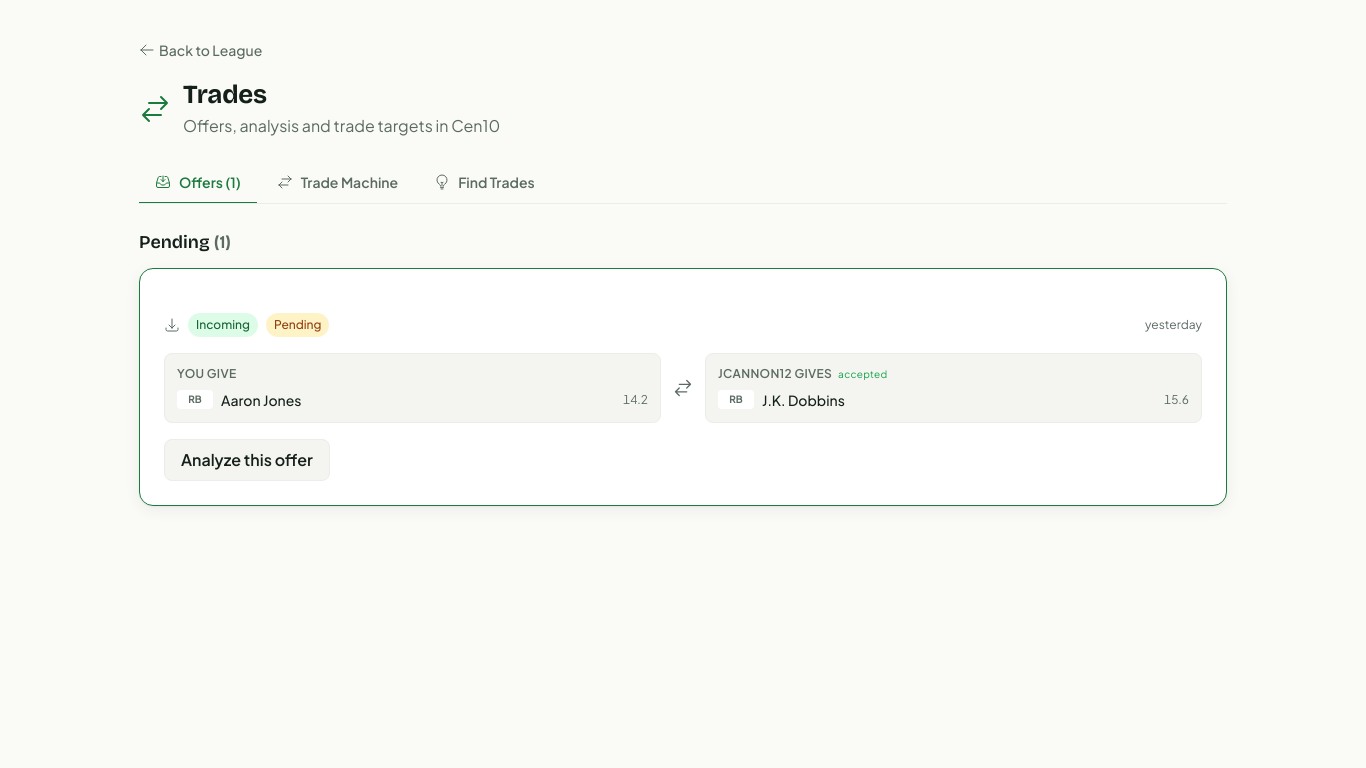
Test case: Trade machine › surfaces data-derived risks when there are any
Click the button "Analyze this offer" at (247, 460), box 164,439 -> 330,481
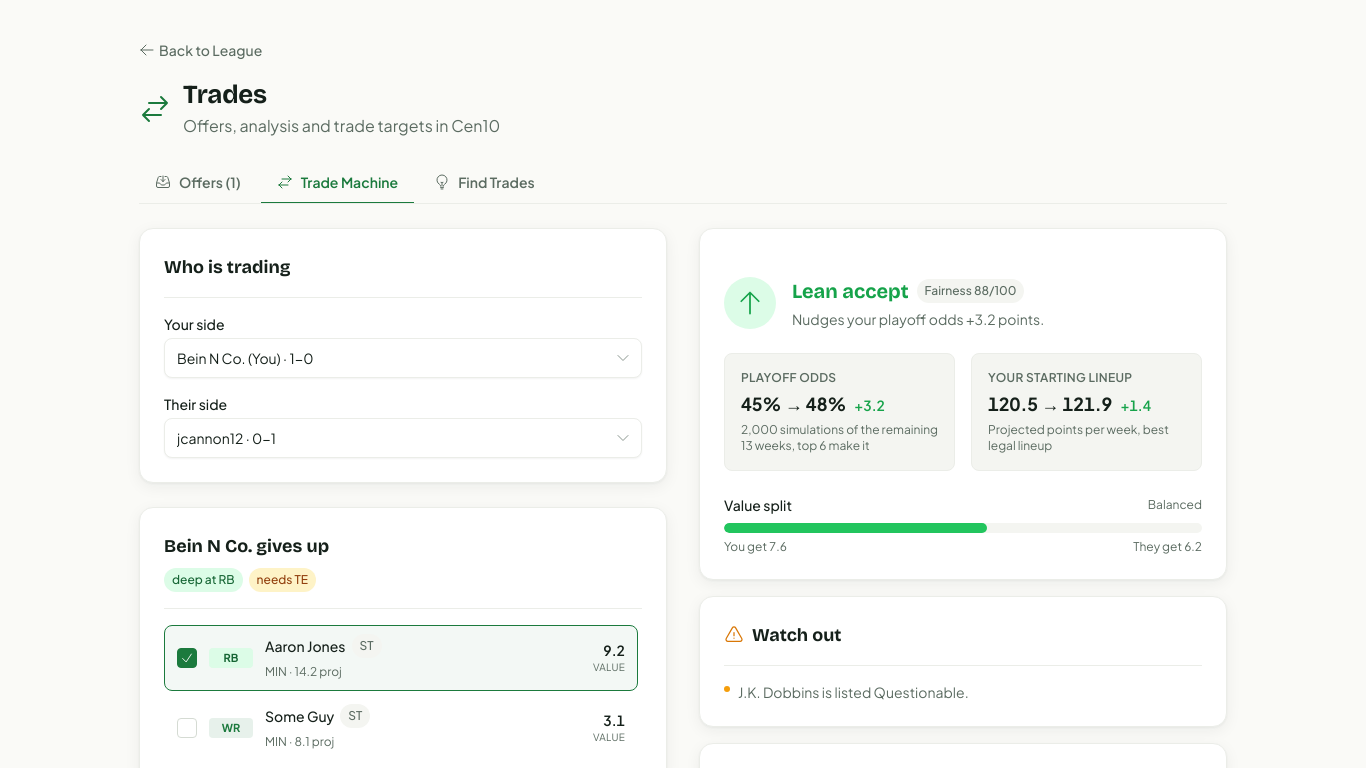
Expected: the heading "Watch out" is shown, 724,624 -> 841,646
Expected: the list item "J.K. Dobbins is listed Questionable." is shown, 724,683 -> 969,701
